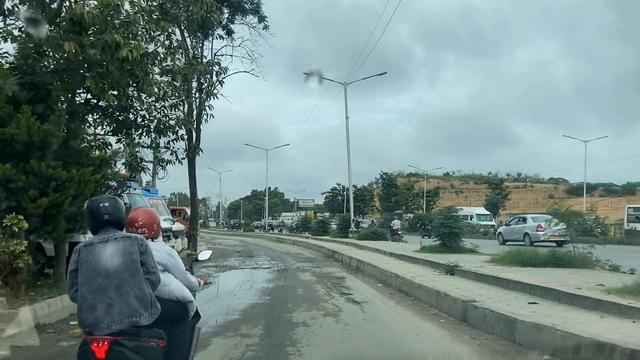RoadDamages: (317, 270, 362, 312), (207, 249, 284, 272)
